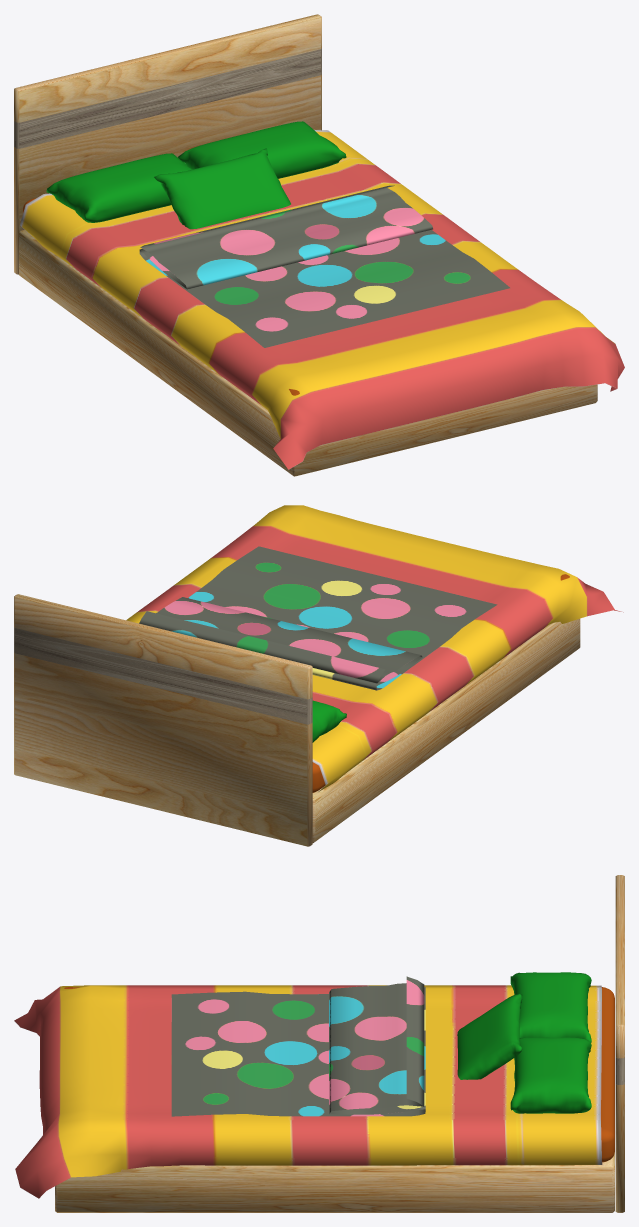
Rendered from Bed.fbx.
3 renders of one model, top to bottom at view 1: azimuth 30°, elevation 25°; view 2: azimuth 150°, elevation 25°; view 3: azimuth 270°, elevation 25°, orthographic. The views are drawn at different scales.
Visible parts, largest first — view 1: Plane, Loft NURBS, Cube.2, Cube, Pellow.2, Pellow.1, Pellow; view 2: Cube.2, Plane, Loft NURBS, Cube, Pellow.1; view 3: Plane, Loft NURBS, Cube, Pellow, Pellow.1, Pellow.2, Cube.2, Cube.1.
Part boxes in pixels (x1,y1,x2,y2): Plane: (20,129,624,469); Loft NURBS: (139,185,509,347); Cube.2: (14,14,321,274); Cube: (19,230,597,476); Pellow.2: (154,148,290,229); Pellow.1: (46,153,192,222); Pellow: (178,121,346,178); Cube.2: (14,594,312,846); Plane: (126,505,623,791); Loft NURBS: (139,546,497,690); Cube: (312,618,580,842); Pellow.1: (312,700,346,742); Plane: (14,985,602,1198); Loft NURBS: (171,976,425,1116); Cube: (55,1152,614,1212); Pellow: (510,1037,591,1113); Pellow.1: (510,972,591,1042); Pellow.2: (457,993,522,1079); Cube.2: (615,875,624,1212); Cube.1: (64,987,614,1162).
Size of the model in its own units: 589 by 291 by 857.
6 materials, 4 textured.
